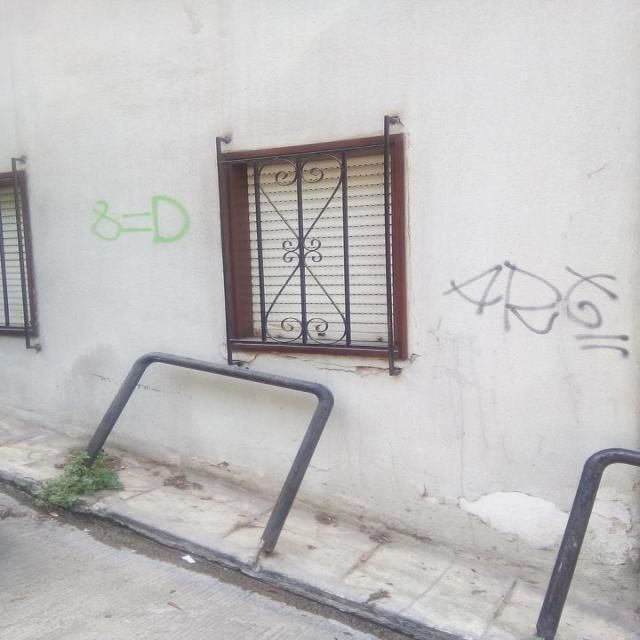nonspitting: (443, 259, 631, 359), (88, 196, 188, 248)
